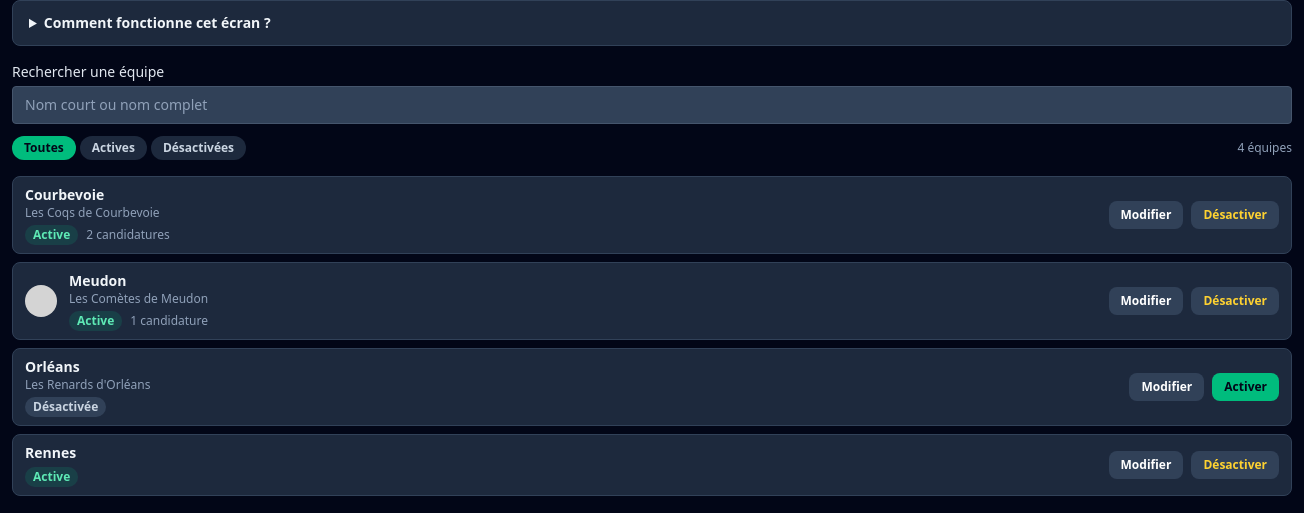
Scenario: GestionEquipesReferentiel — recherche et filtre (CA3) › affiche « Aucune équipe trouvée. » pour un texte sans correspondance
Type "strasbourg" into the search field labelled "Rechercher une équipe".
click(652, 105); type("strasbourg")  # box [12, 86, 1292, 124]
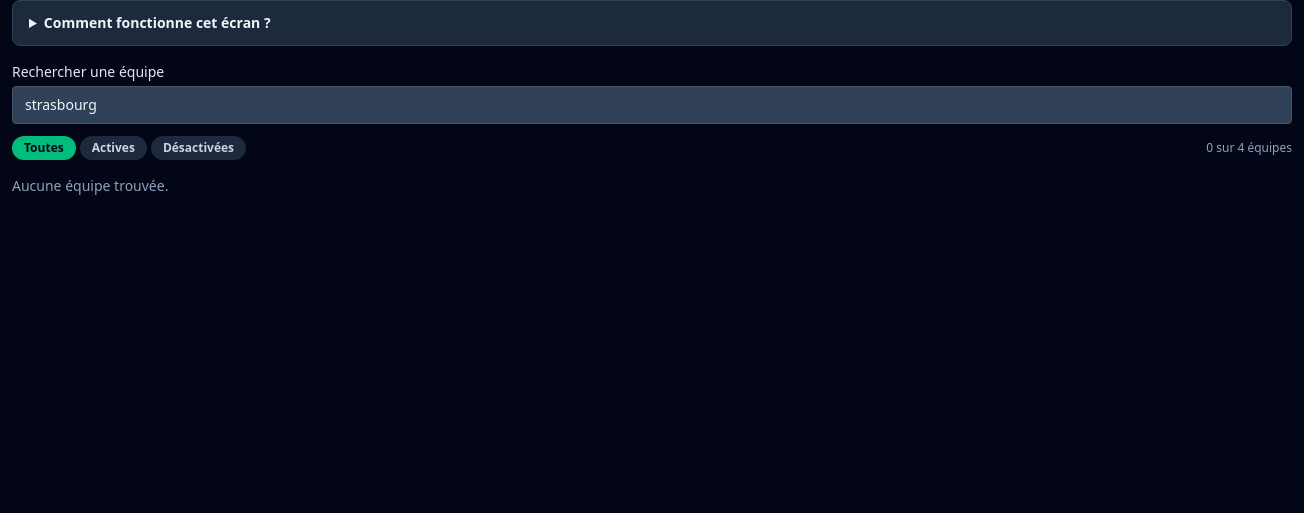
expect the text "Aucune équipe trouvée." is shown: met, box [12, 176, 168, 195]
expect the text "0 sur 4 équipes" is shown: met, box [1206, 140, 1292, 156]
expect the button "Modifier " is gone: met
